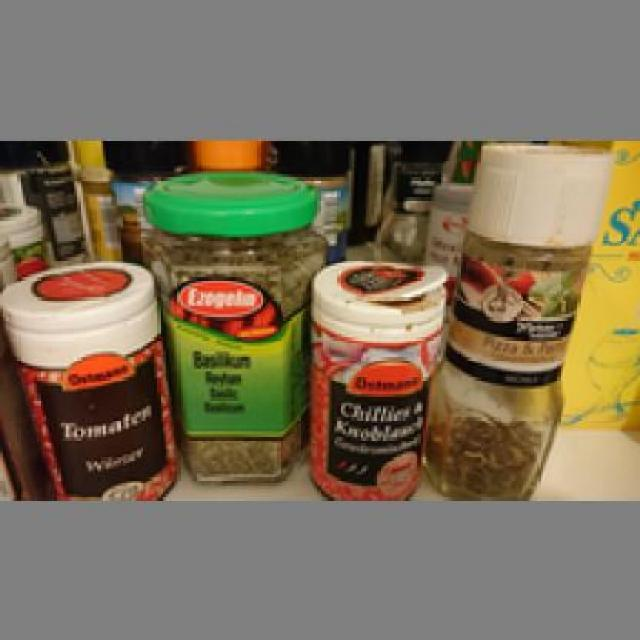Spices: (426, 140, 608, 494), (140, 169, 320, 480), (0, 260, 177, 494), (303, 254, 446, 497)
